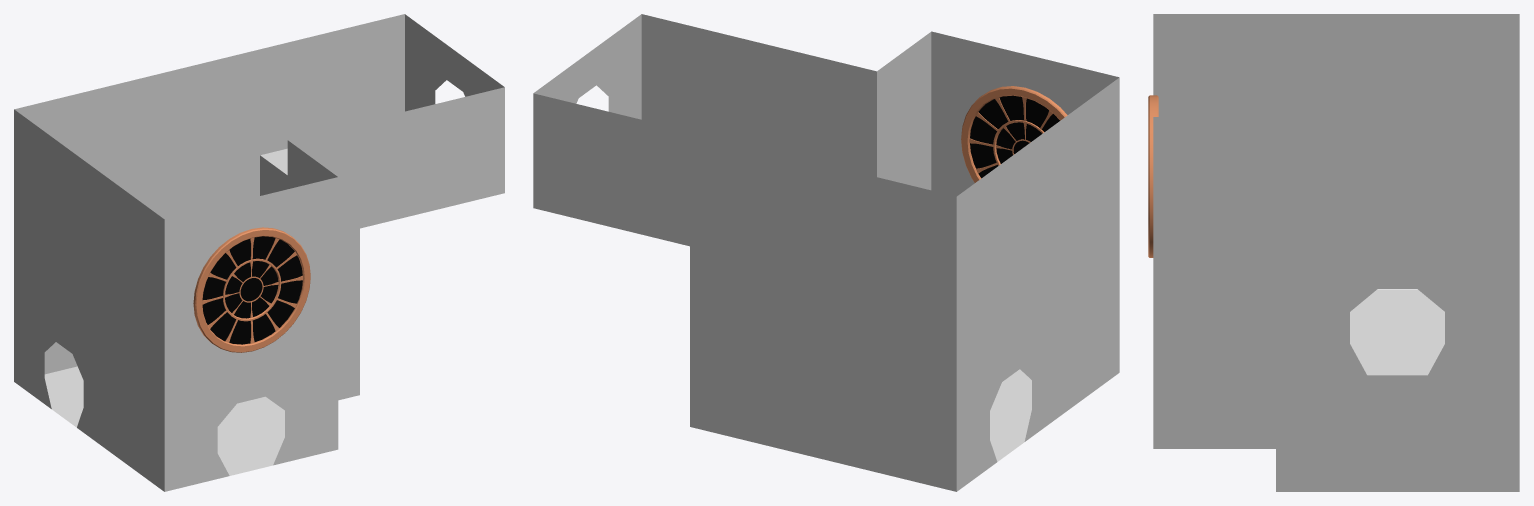
The model's file is Room2.fbx.
3 renders of one model, left to right at view 1: azimuth 30°, elevation 25°; view 2: azimuth 150°, elevation 25°; view 3: azimuth 270°, elevation 25°, orthographic. The views are drawn at different scales.
Parts seen in each view (by area): view 1: Floor.001, Floor; view 2: Floor.001, Floor; view 3: Floor.001, Floor.002.
Boxes of the visible parts, bbox=[...] form: Floor.001: bbox=[14, 14, 504, 491]; Floor: bbox=[44, 366, 284, 475]; Floor.001: bbox=[533, 14, 1119, 491]; Floor: bbox=[990, 369, 1031, 461]; Floor.001: bbox=[1148, 14, 1519, 491]; Floor.002: bbox=[1350, 289, 1444, 375].
Bounding box in the file's own units: 2700 × 1800 × 1825.
